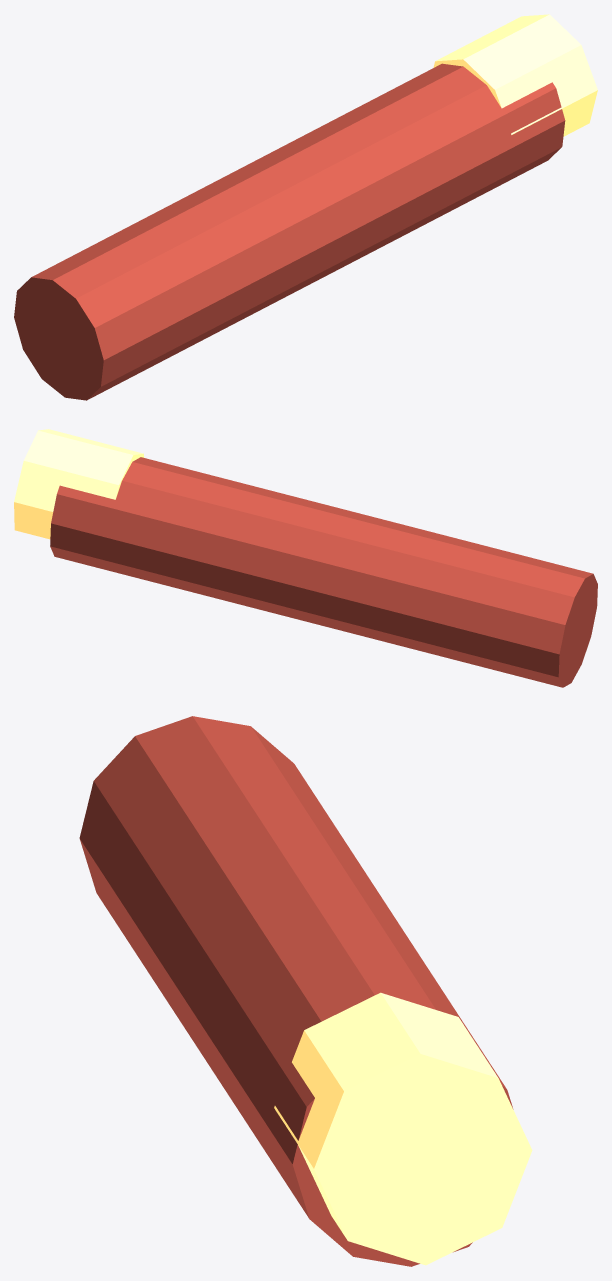
File: active_flare.glb
The picture shows the model from 3 angles, top to bottom: view 1: azimuth 30°, elevation 25°; view 2: azimuth 150°, elevation 25°; view 3: azimuth 270°, elevation 25°; orthographic projection. The views are drawn at different scales.
Visible parts, largest first — view 1: ActiveFlare; view 2: ActiveFlare; view 3: ActiveFlare.
Boxes of the visible parts, bbox=[...] form: ActiveFlare: bbox=[14, 14, 597, 400]; ActiveFlare: bbox=[14, 429, 597, 687]; ActiveFlare: bbox=[79, 716, 532, 1266].
Bounding box in the file's own units: 0.3503 × 0.1154 × 0.1341.
